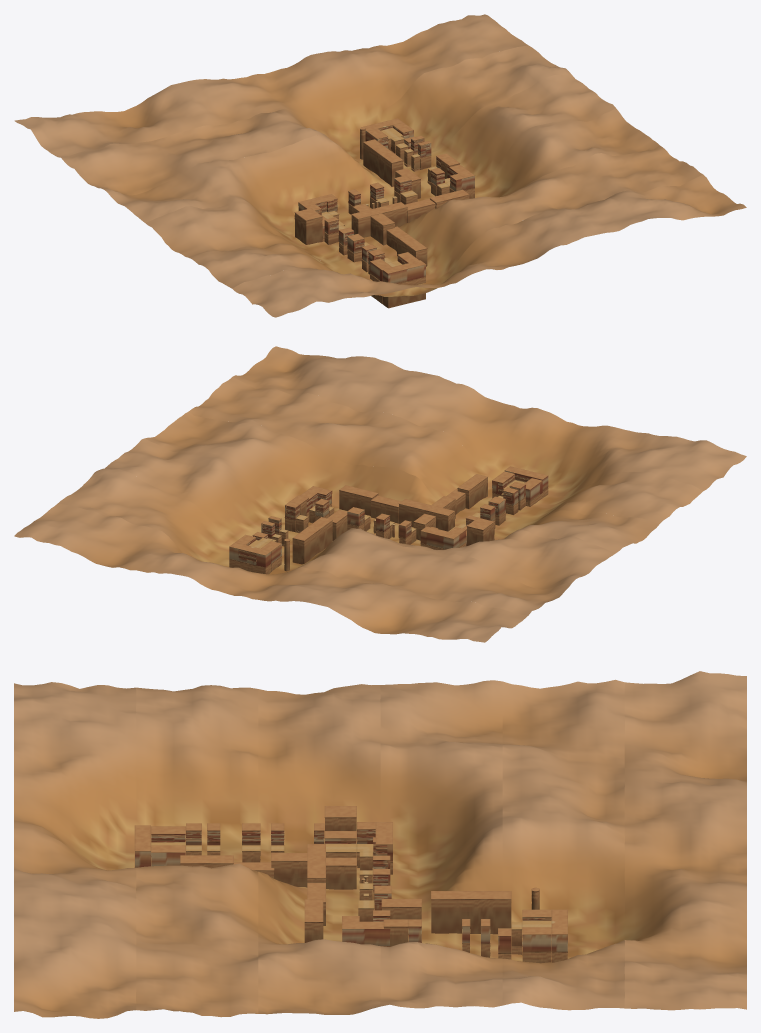
The model's file is canyon_bridges_terrain.glb.
3 renders of one model, top to bottom at view 1: azimuth 30°, elevation 25°; view 2: azimuth 150°, elevation 25°; view 3: azimuth 270°, elevation 25°, orthographic. The views are drawn at different scales.
Visible parts, largest first — view 1: backdrop_5, backdrop_3, backdrop_4, backdrop_1, backdrop_0, backdrop_2, terrain_E, terrain_I, terrain_A, terrain_B, terrain_H, terrain_C (+4 smaller); view 2: backdrop_0, backdrop_1, backdrop_5, backdrop_4, backdrop_2, backdrop_3, terrain_E, terrain_I, terrain_B, terrain_J, terrain_H, terrain_A (+4 smaller); view 3: backdrop_5, backdrop_0, backdrop_4, backdrop_1, backdrop_3, backdrop_2, terrain_I, terrain_E, terrain_J, terrain_H, terrain_B, terrain_D (+4 smaller).
Part boxes in pixels (left/top/right/bottom): backdrop_5: left=14, top=14, right=528, bottom=156; backdrop_3: left=102, top=74, right=615, bottom=230; backdrop_4: left=58, top=45, right=571, bottom=195; backdrop_1: left=189, top=145, right=702, bottom=288; backdrop_0: left=232, top=174, right=746, bottom=317; backdrop_2: left=145, top=108, right=659, bottom=263; terrain_E: left=298, top=182, right=407, bottom=237; terrain_I: left=363, top=135, right=431, bottom=186; terrain_A: left=370, top=252, right=426, bottom=308; terrain_B: left=347, top=226, right=427, bottom=274; terrain_H: left=395, top=153, right=474, bottom=198; terrain_C: left=324, top=213, right=394, bottom=255; backdrop_0: left=232, top=346, right=746, bottom=496; backdrop_1: left=189, top=377, right=702, bottom=529; backdrop_5: left=14, top=503, right=528, bottom=642; backdrop_4: left=58, top=468, right=571, bottom=615; backdrop_2: left=145, top=411, right=659, bottom=552; backdrop_3: left=105, top=438, right=615, bottom=589; terrain_E: left=375, top=499, right=466, bottom=549; terrain_I: left=252, top=516, right=332, bottom=564; terrain_B: left=446, top=474, right=525, bottom=525; terrain_J: left=229, top=534, right=290, bottom=574; terrain_H: left=284, top=486, right=347, bottom=540; terrain_A: left=492, top=466, right=548, bottom=506; backdrop_5: left=624, top=671, right=746, bottom=1010; backdrop_0: left=14, top=682, right=136, bottom=1018; backdrop_4: left=502, top=679, right=624, bottom=1010; backdrop_1: left=136, top=685, right=258, bottom=1017; backdrop_3: left=380, top=680, right=502, bottom=1008; backdrop_2: left=258, top=684, right=380, bottom=1014; terrain_I: left=431, top=891, right=511, bottom=959; terrain_E: left=307, top=822, right=392, bottom=902; terrain_J: left=511, top=887, right=567, bottom=963; terrain_H: left=342, top=899, right=421, bottom=946; terrain_B: left=180, top=823, right=274, bottom=878; terrain_D: left=324, top=806, right=356, bottom=889.
Bounding box in the file's own units: 567 × 79.54 × 546.
